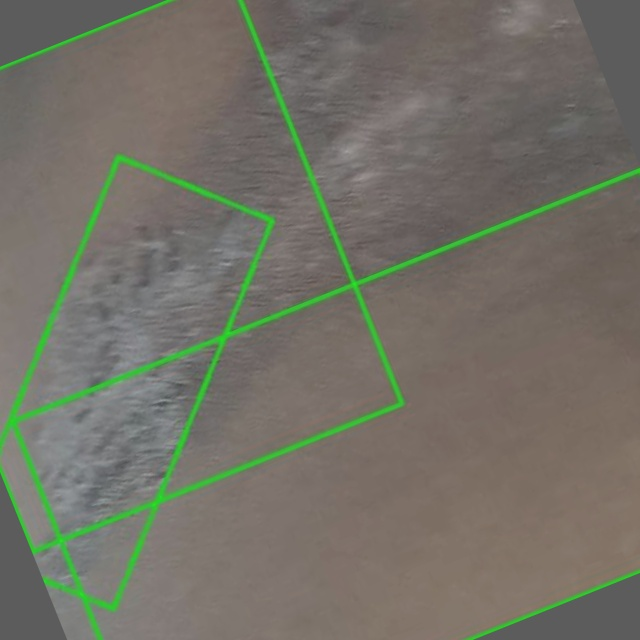Eczema: (13, 170, 639, 639), (0, 0, 402, 551), (0, 156, 272, 608)
